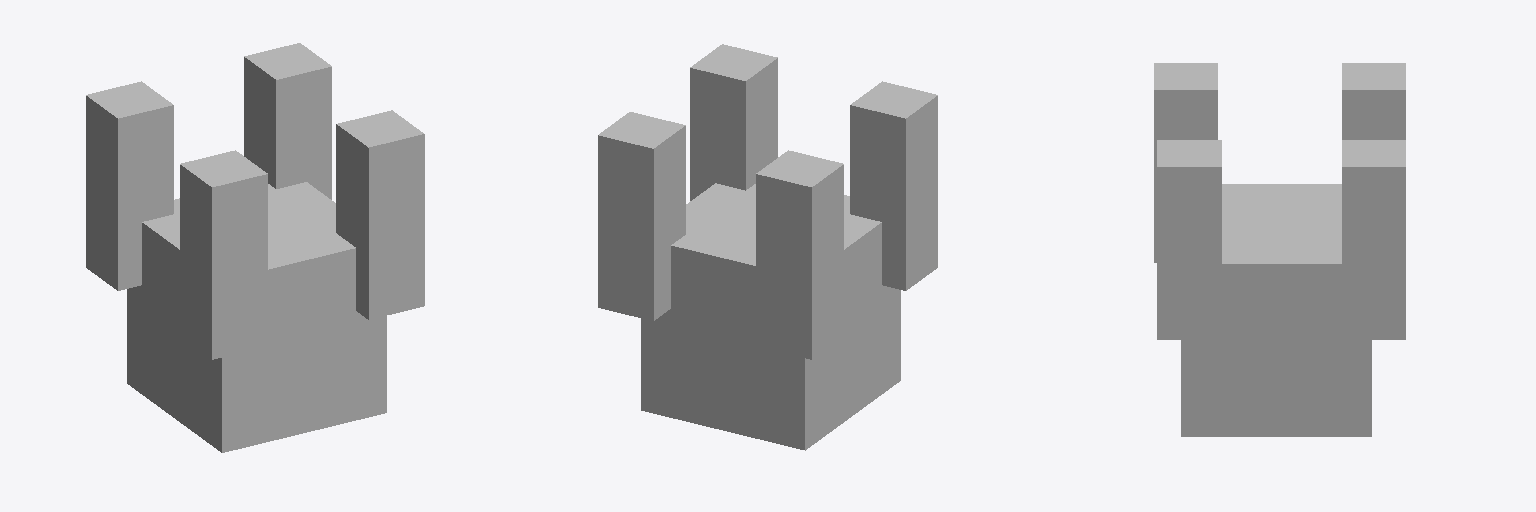
The model's file is castle-primitive.obj.
The picture shows the model from 3 angles: view 1: azimuth 30°, elevation 25°; view 2: azimuth 150°, elevation 25°; view 3: azimuth 270°, elevation 25°; orthographic projection.
Parts seen in each view (by area): view 1: Cube, Cube.004, Cube.001, Cube.003, Cube.002; view 2: Cube, Cube.003, Cube.002, Cube.004, Cube.001; view 3: Cube, Cube.001, Cube.002, Cube.004, Cube.003.
Boxes of the visible parts, x1=… form: Cube: x1=127, y1=182, x2=386, y2=452; Cube.004: x1=180, y1=150, x2=267, y2=359; Cube.001: x1=336, y1=110, x2=424, y2=319; Cube.003: x1=86, y1=81, x2=173, y2=290; Cube.002: x1=244, y1=43, x2=331, y2=199; Cube: x1=641, y1=183, x2=900, y2=450; Cube.003: x1=756, y1=150, x2=843, y2=359; Cube.002: x1=598, y1=112, x2=685, y2=320; Cube.004: x1=850, y1=81, x2=937, y2=290; Cube.001: x1=690, y1=44, x2=777, y2=200; Cube: x1=1181, y1=184, x2=1371, y2=436; Cube.001: x1=1157, y1=140, x2=1221, y2=339; Cube.002: x1=1342, y1=140, x2=1405, y2=339; Cube.004: x1=1154, y1=63, x2=1217, y2=262; Cube.003: x1=1342, y1=63, x2=1405, y2=139.
Bounding box in the file's own units: 2.6 × 3.27 × 2.66.